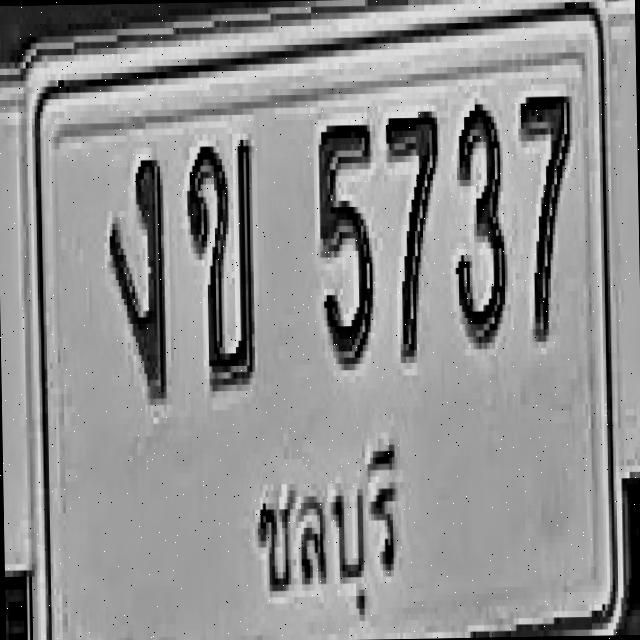11KhorKhai: (184, 136, 256, 388)
16NgorNgu: (106, 154, 167, 398)
3: (451, 97, 507, 342)
5: (316, 115, 374, 367)
7: (518, 90, 574, 342), (385, 108, 441, 360)
Chonburi: (246, 436, 411, 626)
